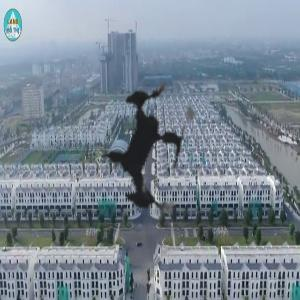drone: (43, 41, 251, 249)
